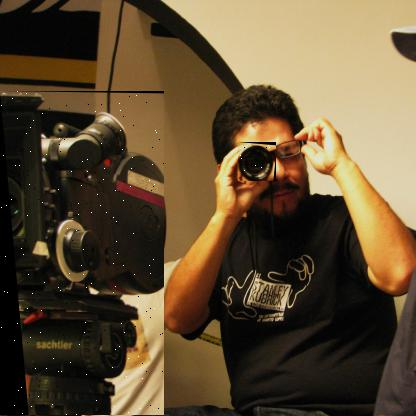Camera: (1, 92, 166, 416), (239, 143, 278, 183)
